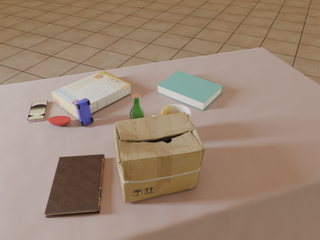book: (44, 154, 104, 217), (157, 71, 223, 110)
bottle: (130, 93, 145, 120)
box: (114, 112, 205, 203), (52, 71, 131, 119)
cup: (161, 104, 191, 116)
mouse: (48, 116, 71, 126)
phone: (27, 101, 48, 122)
toy_car: (75, 98, 93, 126)
